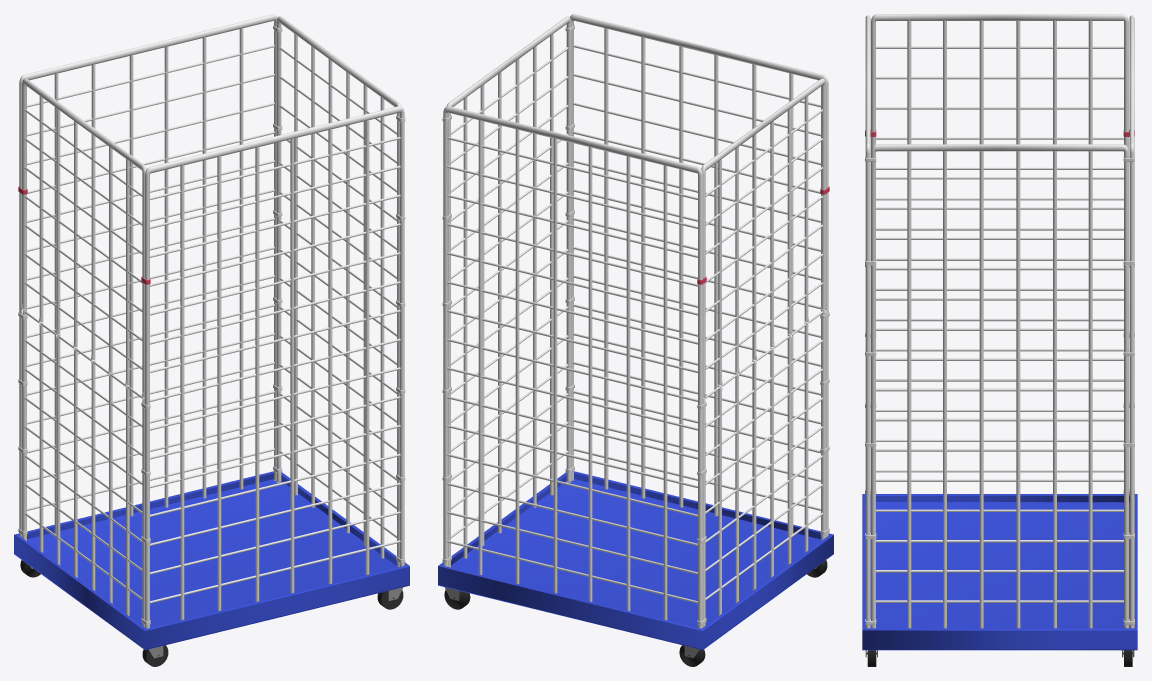
The model's file is uploads_files_3004877_Trolley.fbx.
3 renders of one model, left to right at view 1: azimuth 30°, elevation 25°; view 2: azimuth 150°, elevation 25°; view 3: azimuth 270°, elevation 25°, orthographic. The views are drawn at different scales.
Visible parts, largest first — view 1: Basis, Front, Back; view 2: Basis, Front, Back; view 3: Basis, Back, Front.
Boxes of the visible parts, x1,y1,x2,y2 form: Basis: [14, 14, 409, 666]; Front: [21, 78, 146, 627]; Back: [18, 16, 405, 625]; Basis: [438, 14, 833, 666]; Front: [701, 78, 826, 627]; Back: [442, 16, 829, 625]; Basis: [862, 15, 1137, 666]; Back: [865, 144, 1134, 628]; Front: [871, 14, 1128, 472].
Bounding box in the file's own units: 93.27 × 169 × 79.94.
